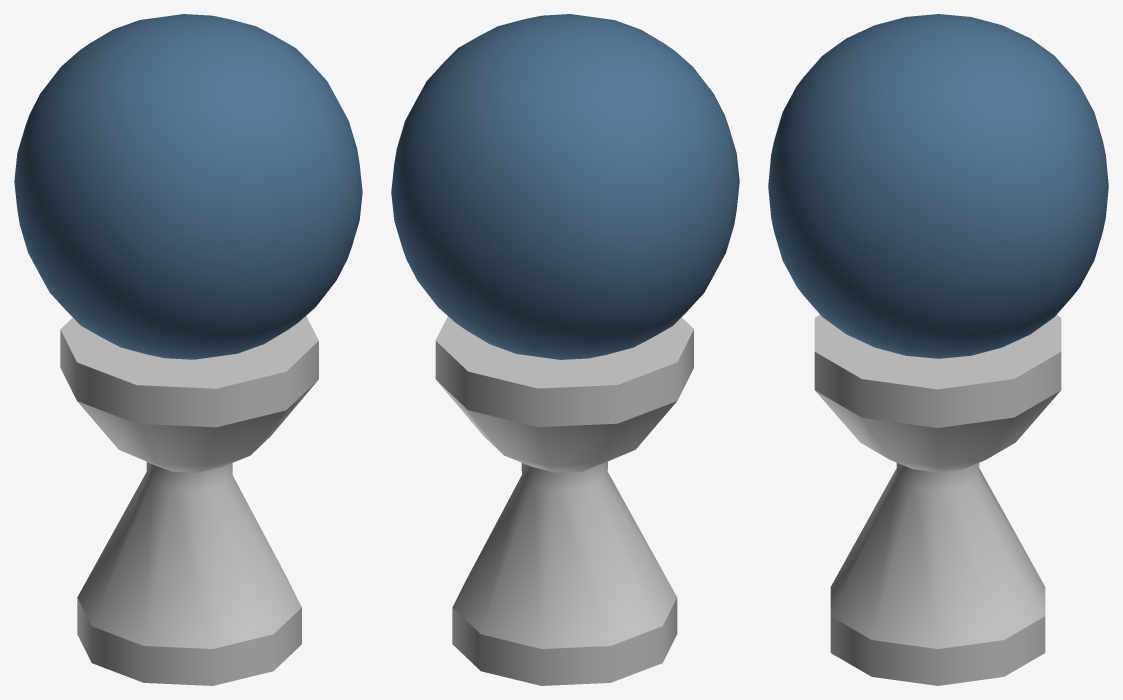
File: MagicBall.FBX
3 renders of one model, left to right at view 1: azimuth 30°, elevation 25°; view 2: azimuth 150°, elevation 25°; view 3: azimuth 270°, elevation 25°, orthographic.
Parts seen in each view (by area): view 1: Box01, Cylinder01; view 2: Box01, Cylinder01; view 3: Box01, Cylinder01.
Part boxes in pixels (bbox=[...]): Box01: bbox=[14, 14, 362, 359]; Cylinder01: bbox=[60, 316, 318, 685]; Box01: bbox=[391, 14, 739, 359]; Cylinder01: bbox=[435, 316, 693, 685]; Box01: bbox=[768, 14, 1108, 358]; Cylinder01: bbox=[814, 315, 1061, 685].
Size of the model in its own units: 4.25 by 8.33 by 4.25.
